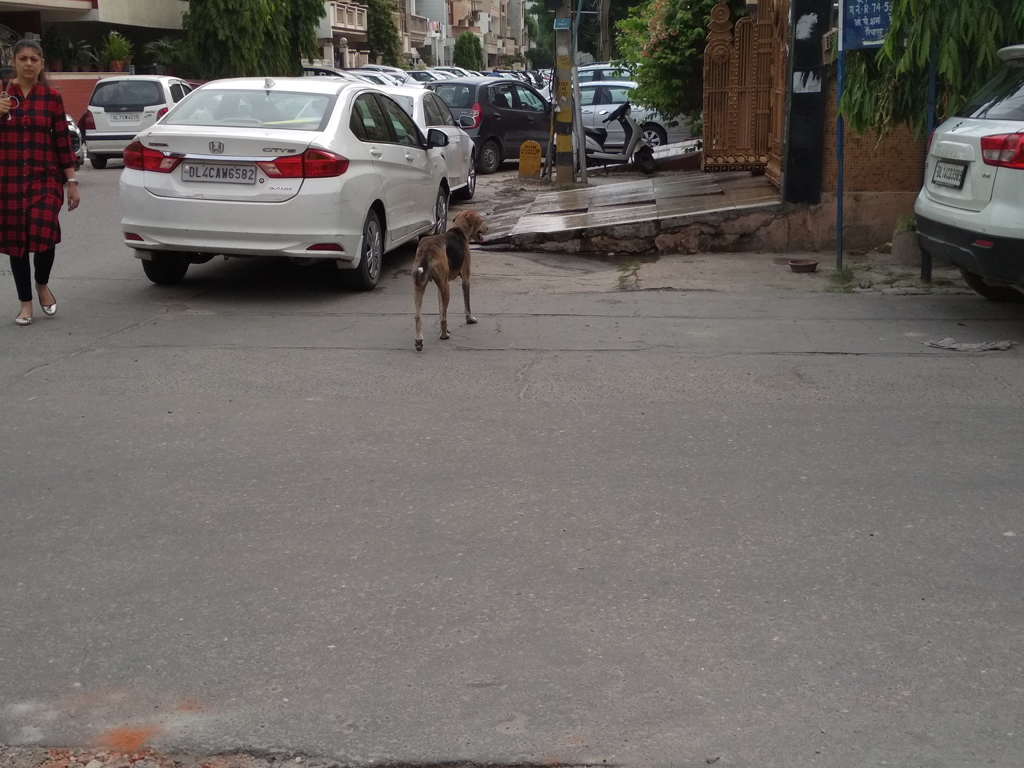dog: (411, 211, 487, 351)
